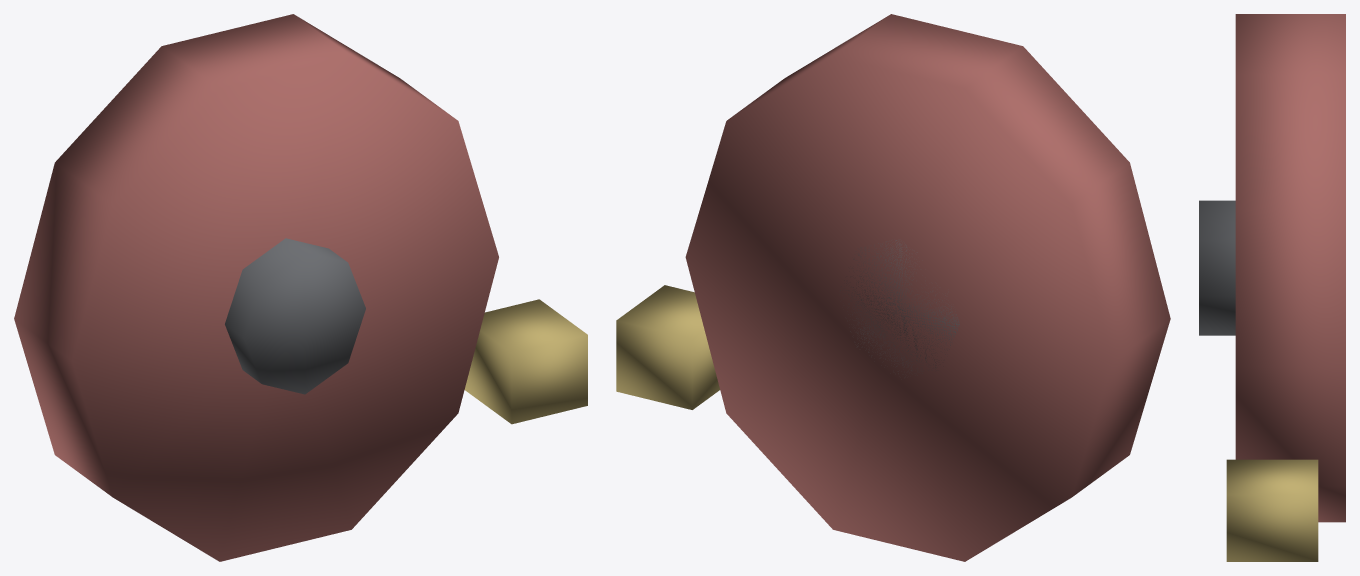
Rendered from hose_reel_05.glb.
The picture shows the model from 3 angles, left to right: view 1: azimuth 30°, elevation 25°; view 2: azimuth 150°, elevation 25°; view 3: azimuth 270°, elevation 25°; orthographic projection. The views are drawn at different scales.
Parts seen in each view (by area): view 1: world; view 2: world; view 3: world.
Boxes of the visible parts, left/top/right/bottom form: world: left=14, top=14, right=587, bottom=561; world: left=616, top=14, right=1170, bottom=561; world: left=1199, top=14, right=1345, bottom=561.
Bounding box in the file's own units: 0.5896 × 0.5219 × 0.1552.
